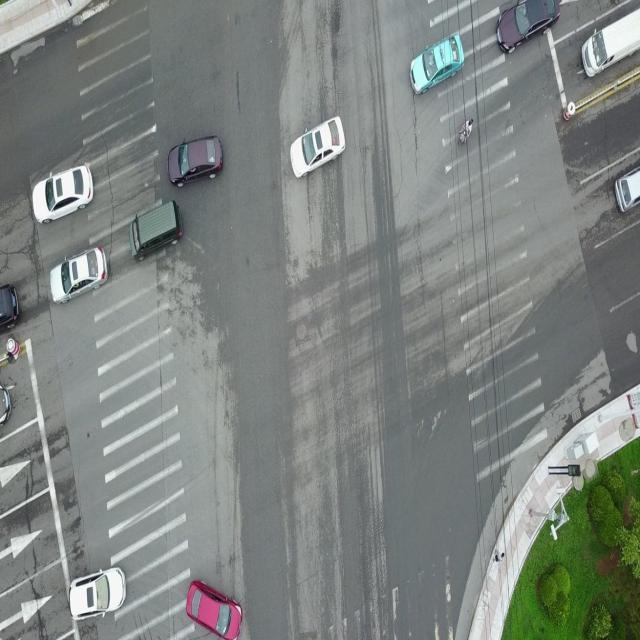p3rson: (493, 547, 504, 562)
